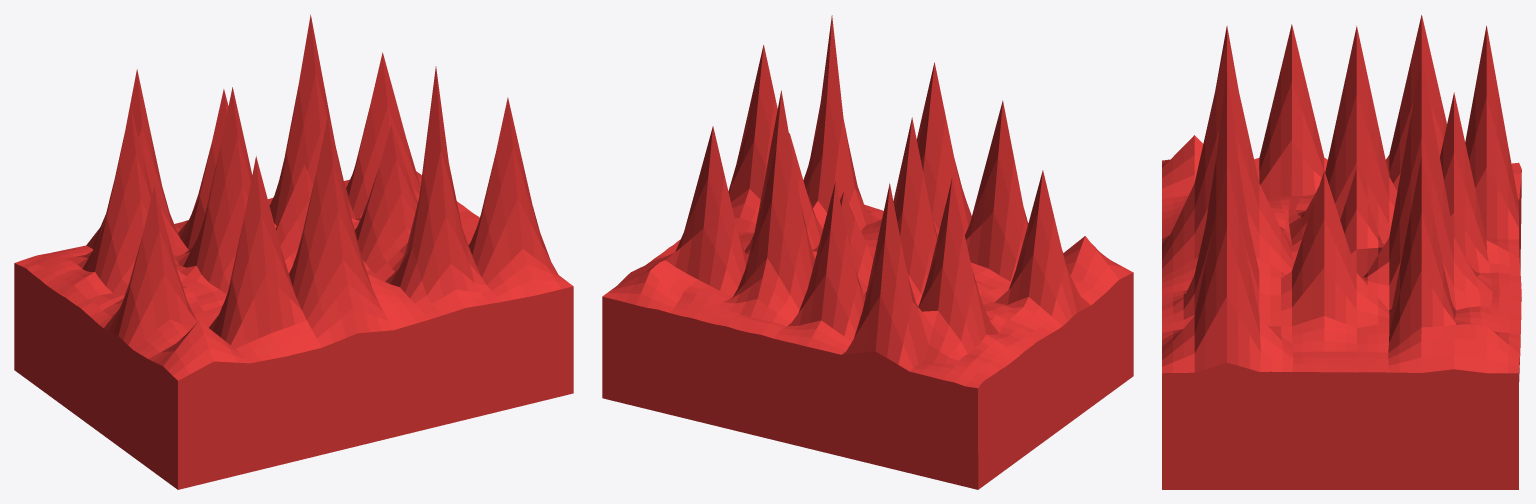
The model's file is spikes1red.gltf.
3 views of the same model, side by side, from view 1: azimuth 30°, elevation 25°; view 2: azimuth 150°, elevation 25°; view 3: azimuth 270°, elevation 25° (orthographic). The views are drawn at different scales.
Visible parts, largest first — view 1: Cube; view 2: Cube; view 3: Cube.
Boxes of the visible parts, left/top/right/bottom form: Cube: left=14, top=14, right=573, bottom=489; Cube: left=602, top=15, right=1133, bottom=489; Cube: left=1162, top=15, right=1521, bottom=489.
Bounding box in the file's own units: 7.73 × 6.21 × 5.58.
